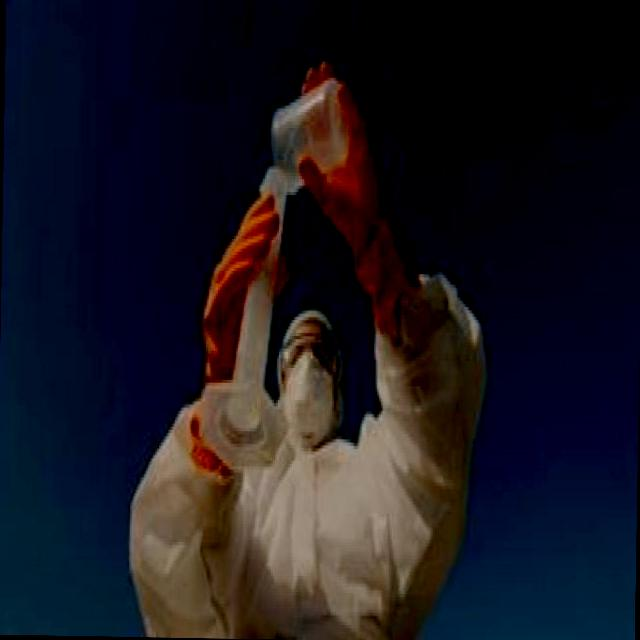no_vest: (127, 383, 462, 640)
